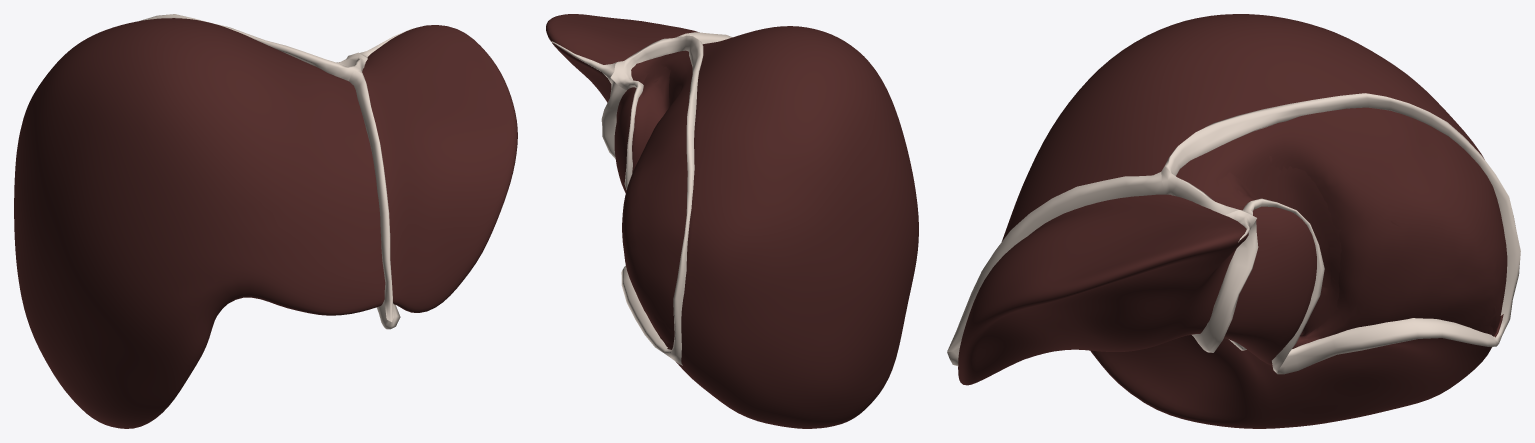
The model's file is liver-male.glb.
The picture shows the model from 3 angles, left to right: view 1: azimuth 30°, elevation 25°; view 2: azimuth 150°, elevation 25°; view 3: azimuth 270°, elevation 25°; orthographic projection. The views are drawn at different scales.
Parts seen in each view (by area): view 1: VH_M_liver_capsule, VH_M_falciform_ligament, VH_M_coronary_ligament_of_liver; view 2: VH_M_liver_capsule, VH_M_bare_area_of_liver, VH_M_coronary_ligament_of_liver, VH_M_caudate_lobe_of_liver, VH_M_ligamentum_venosum, VH_M_right_posterosuperior_segment, VH_M_triangular_ligament_of_liver; view 3: VH_M_liver_capsule, VH_M_bare_area_of_liver, VH_M_coronary_ligament_of_liver, VH_M_caudate_lobe_of_liver, VH_M_falciform_ligament, VH_M_ligamentum_venosum, VH_M_diaphragmatic_surface, VH_M_right_posterosuperior_segment.
Part boxes in pixels (x1,y1,x2,y2): VH_M_liver_capsule: [14, 18, 517, 428]; VH_M_falciform_ligament: [349, 70, 393, 321]; VH_M_coronary_ligament_of_liver: [140, 14, 367, 81]; VH_M_liver_capsule: [546, 14, 918, 428]; VH_M_bare_area_of_liver: [622, 50, 692, 347]; VH_M_coronary_ligament_of_liver: [610, 35, 703, 365]; VH_M_caudate_lobe_of_liver: [632, 54, 688, 125]; VH_M_ligamentum_venosum: [601, 78, 626, 158]; VH_M_right_posterosuperior_segment: [627, 118, 687, 311]; VH_M_triangular_ligament_of_liver: [551, 41, 616, 82]; VH_M_liver_capsule: [958, 14, 1503, 428]; VH_M_bare_area_of_liver: [1176, 107, 1507, 344]; VH_M_coronary_ligament_of_liver: [1161, 93, 1520, 374]; VH_M_caudate_lobe_of_liver: [1190, 151, 1341, 348]; VH_M_falciform_ligament: [947, 172, 1165, 351]; VH_M_ligamentum_venosum: [1192, 220, 1258, 352]; VH_M_diaphragmatic_surface: [1226, 166, 1496, 345]; VH_M_right_posterosuperior_segment: [1339, 107, 1499, 308].
Bounding box in the file's own units: 1.17 × 1.06 × 1.23.
